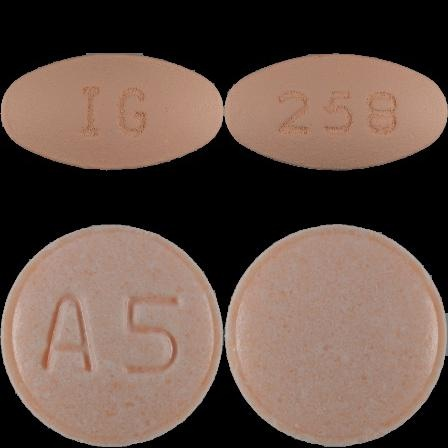68462-359: (0, 0, 224, 224)
